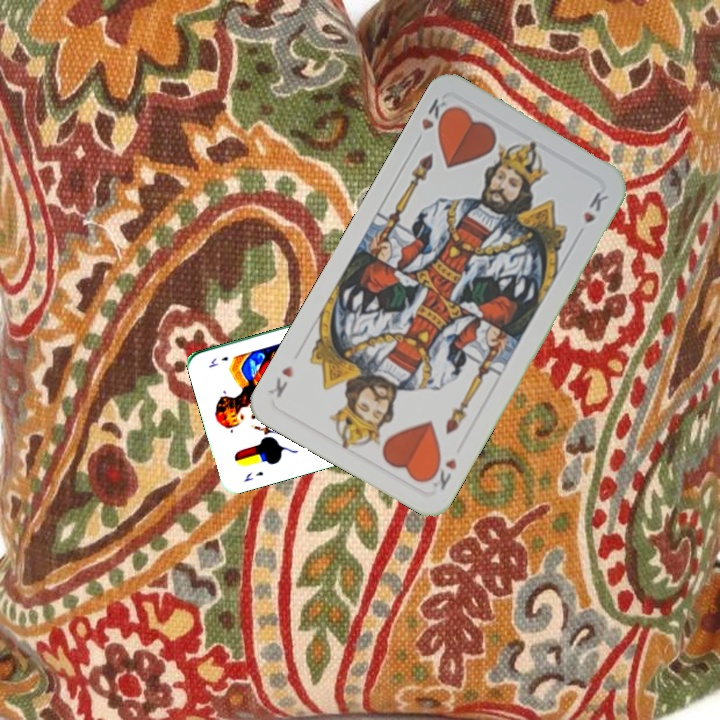EK: (240, 467, 266, 484)
HK: (410, 94, 455, 148), (428, 455, 459, 493)
